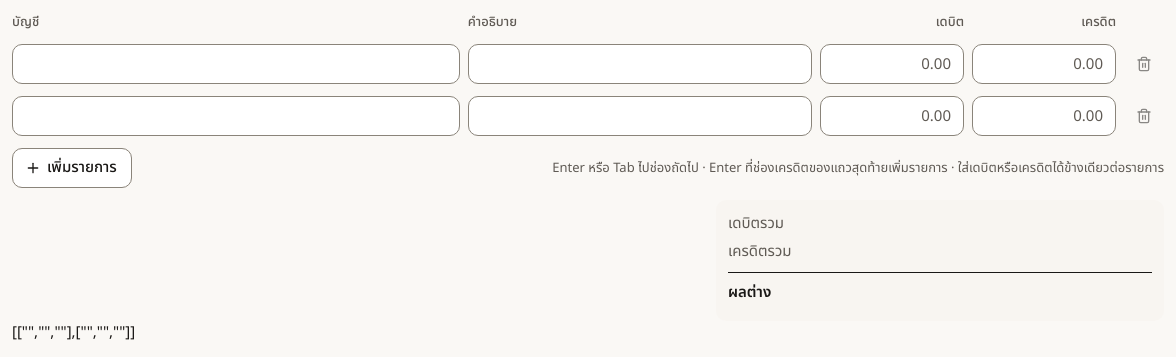
Test: AccountLineGrid › Tab straight after typing a whole account code selects it
Step 1. Click the dropdown named "บัญชีรายการ 1" → (236, 64), box x1=12 y1=44 x2=460 y2=84
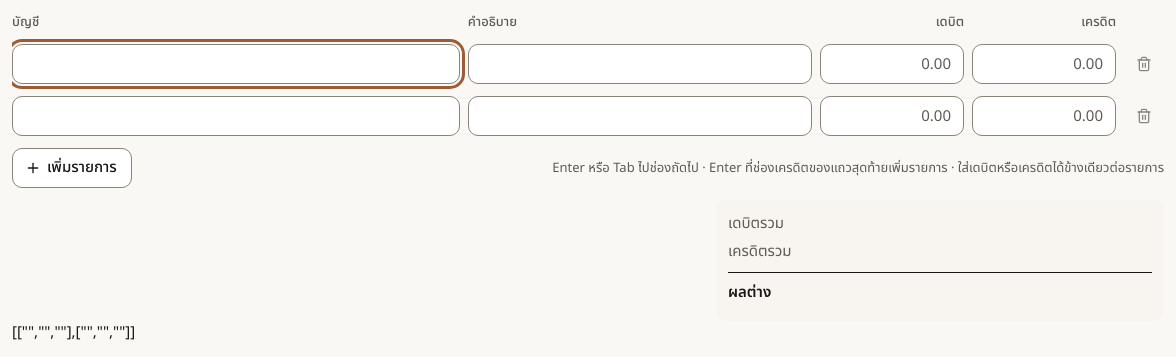
Step 2. Type keys "2120"
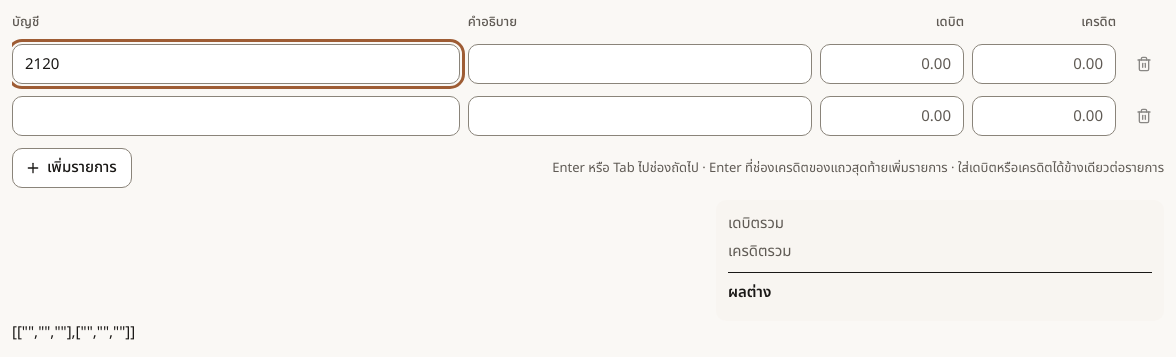
Step 3. Press Tab
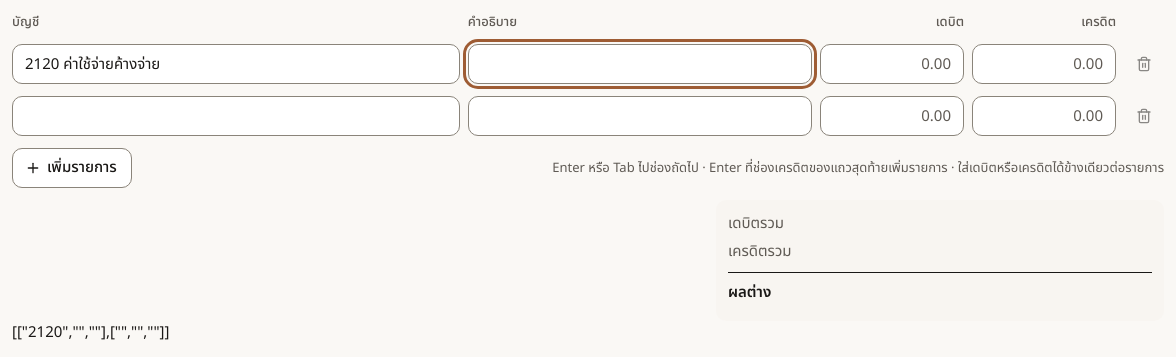
Expected: the dropdown named "บัญชีรายการ 1" holds "2120 ค่าใช้จ่ายค้างจ่าย", x1=12 y1=44 x2=460 y2=84
